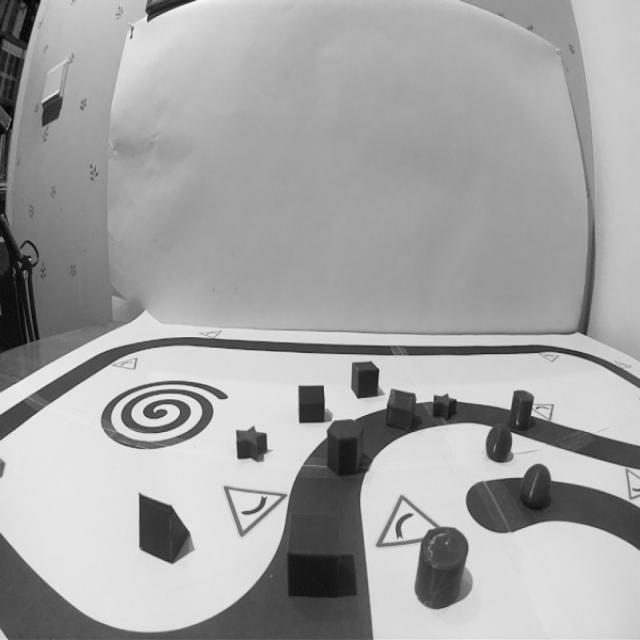ball: (518, 460, 556, 513), (483, 420, 517, 466)
cube: (283, 506, 349, 608), (348, 355, 382, 402)
cylinder: (412, 520, 471, 616), (508, 385, 536, 434)
hexagon: (324, 415, 366, 478)
home: (383, 385, 421, 435), (294, 380, 329, 426)
laneRightTurn: (281, 431, 381, 640)
nest: (96, 374, 230, 458)
rightTurn: (356, 469, 450, 558)
star: (231, 422, 273, 468), (429, 390, 462, 424)
triangle: (131, 488, 194, 568)
